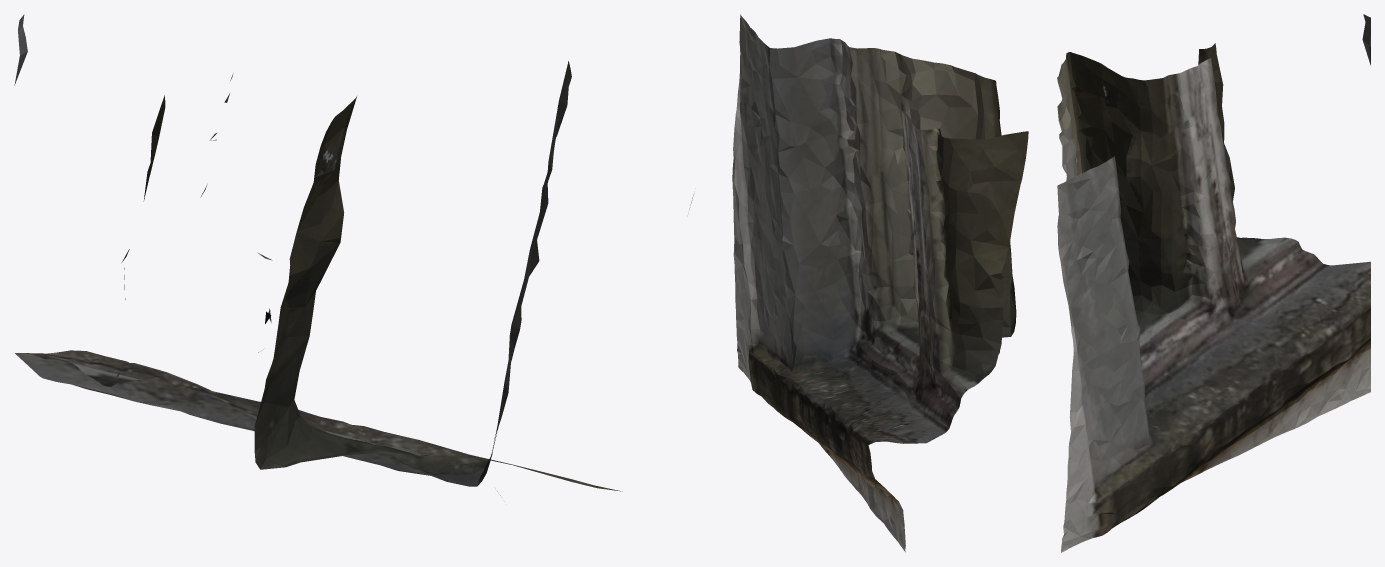
3 renders of one model, left to right at view 1: azimuth 30°, elevation 25°; view 2: azimuth 150°, elevation 25°; view 3: azimuth 270°, elevation 25°, orthographic. The views are drawn at different scales.
Bounding box in the file's own units: 0.8374 × 0.8374 × 0.6478.
4 materials, 4 textured.
